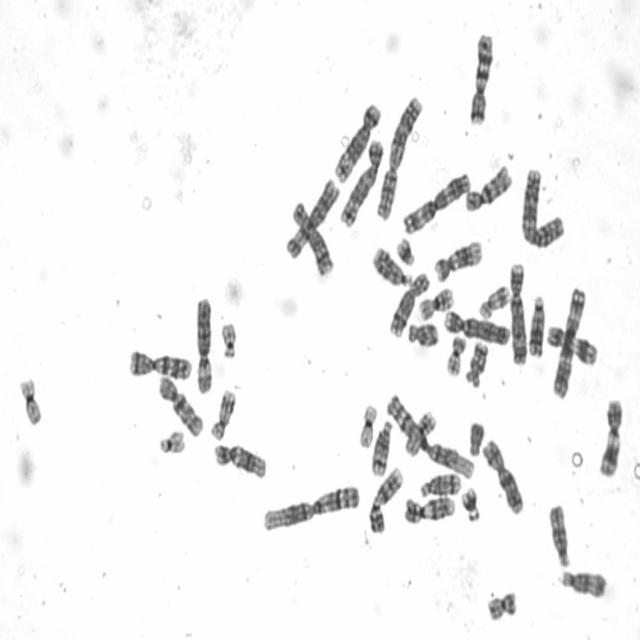A1: (382, 386, 477, 481), (259, 477, 361, 534)
A2: (373, 89, 424, 221), (517, 161, 567, 250)
A3: (399, 164, 473, 236), (549, 281, 587, 399)
B4: (439, 304, 511, 347), (505, 256, 529, 367)
B5: (336, 132, 385, 228), (331, 95, 383, 184)
C10: (154, 368, 205, 440), (461, 158, 513, 214)
C11: (543, 318, 599, 368), (595, 392, 624, 479)
C12: (431, 233, 484, 283), (210, 437, 268, 480)
C6: (282, 172, 341, 260), (191, 290, 215, 395)
C7: (465, 26, 495, 127), (124, 343, 194, 381)
C8: (287, 195, 336, 277), (385, 265, 431, 339)
C9: (365, 460, 405, 535), (401, 489, 457, 526)
D13: (369, 241, 413, 288), (524, 288, 547, 358)
D14: (367, 413, 394, 478), (417, 467, 462, 498)
D15: (556, 562, 608, 600), (545, 498, 572, 569)
E16: (401, 403, 439, 458), (416, 281, 456, 321)
E17: (206, 383, 237, 442), (474, 279, 512, 320)
E18: (461, 336, 490, 387), (403, 315, 440, 349)
F19: (14, 370, 44, 427), (354, 398, 378, 450)
F20: (483, 584, 518, 622), (442, 330, 468, 377)
G21: (458, 481, 482, 523), (393, 231, 417, 267)
G22: (155, 424, 187, 456), (217, 316, 238, 360)
X: (478, 432, 526, 517)
Y: (465, 415, 486, 457)
